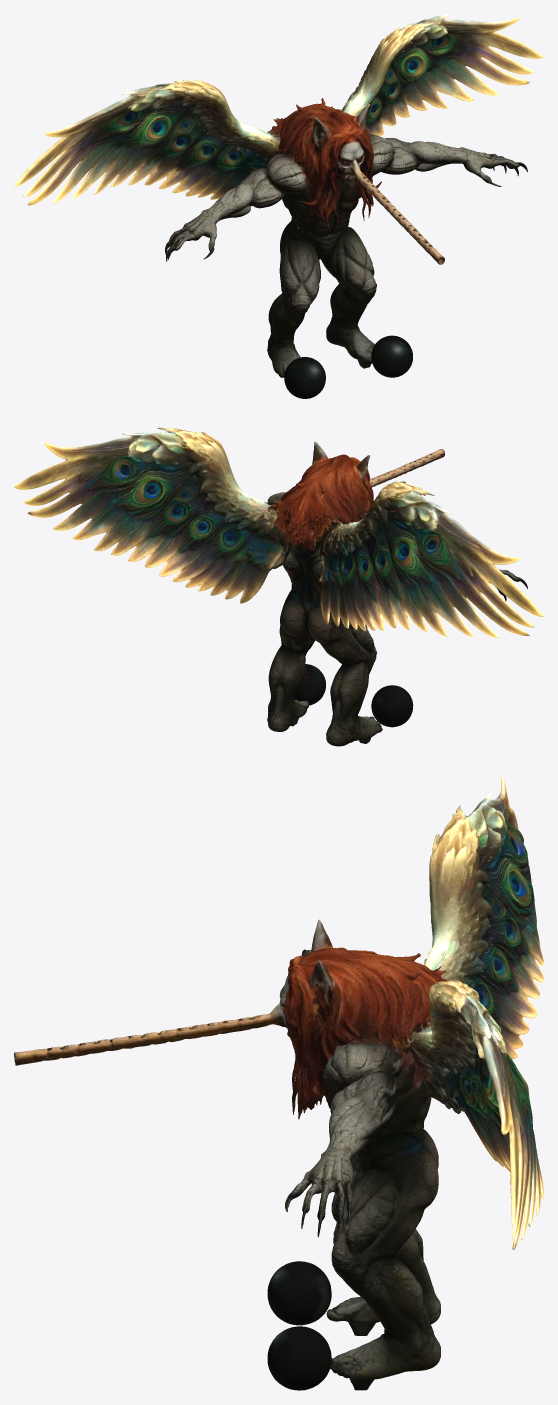
The model's file is Meshy_AI_The Piper of the Cavern_1779948739_image-to-3d-texture-compressed.glb.
The picture shows the model from 3 angles, top to bottom: view 1: azimuth 30°, elevation 25°; view 2: azimuth 150°, elevation 25°; view 3: azimuth 270°, elevation 25°; orthographic projection. The views are drawn at different scales.
Visible parts, largest first — view 1: mesh_0; view 2: mesh_0; view 3: mesh_0.
Boxes of the visible parts, <box> form: mesh_0: <box>14,14,543,398</box>; mesh_0: <box>14,427,543,746</box>; mesh_0: <box>14,775,543,1390</box>.
Size of the model in its own units: 1.9 by 1.02 by 1.07.
Materials: 1 (1 with a texture image).
